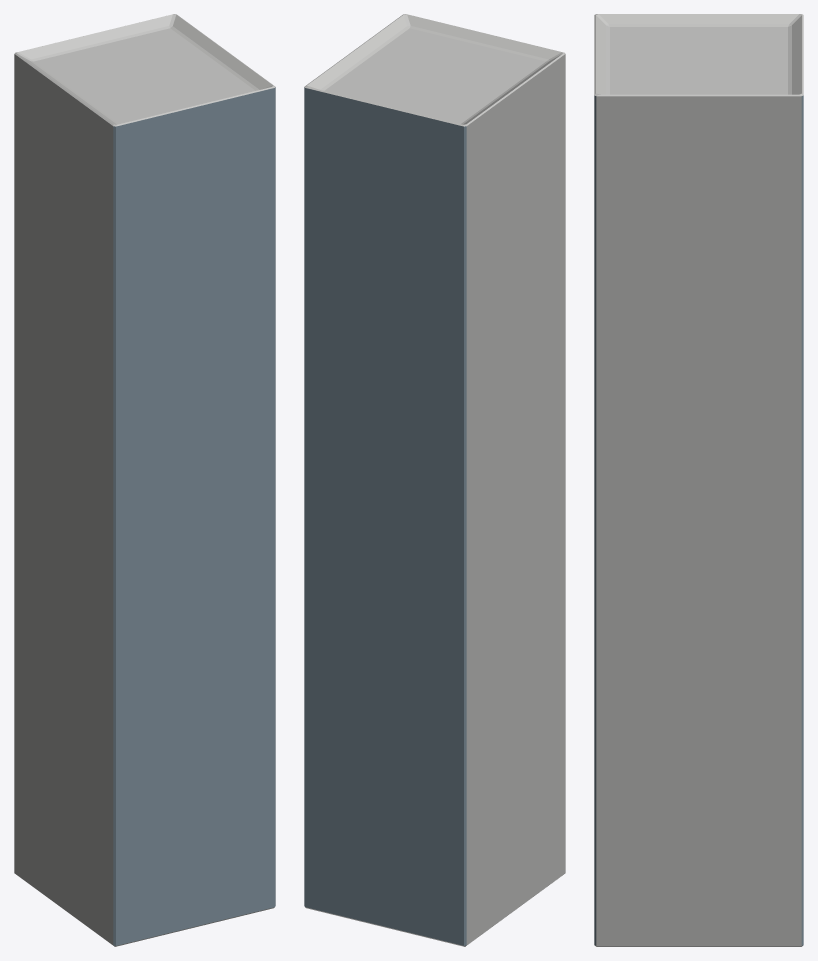
Rendered from town_slab_12.glb.
The picture shows the model from 3 angles, left to right: view 1: azimuth 30°, elevation 25°; view 2: azimuth 150°, elevation 25°; view 3: azimuth 270°, elevation 25°; orthographic projection. The views are drawn at different scales.
Parts seen in each view (by area): view 1: slab; view 2: slab; view 3: slab.
Part boxes in pixels (<box>): slab: <box>14,14,275,946</box>; slab: <box>304,14,565,946</box>; slab: <box>594,14,803,946</box>.
Size of the model in its own units: 0.26 by 1.26 by 0.28.
